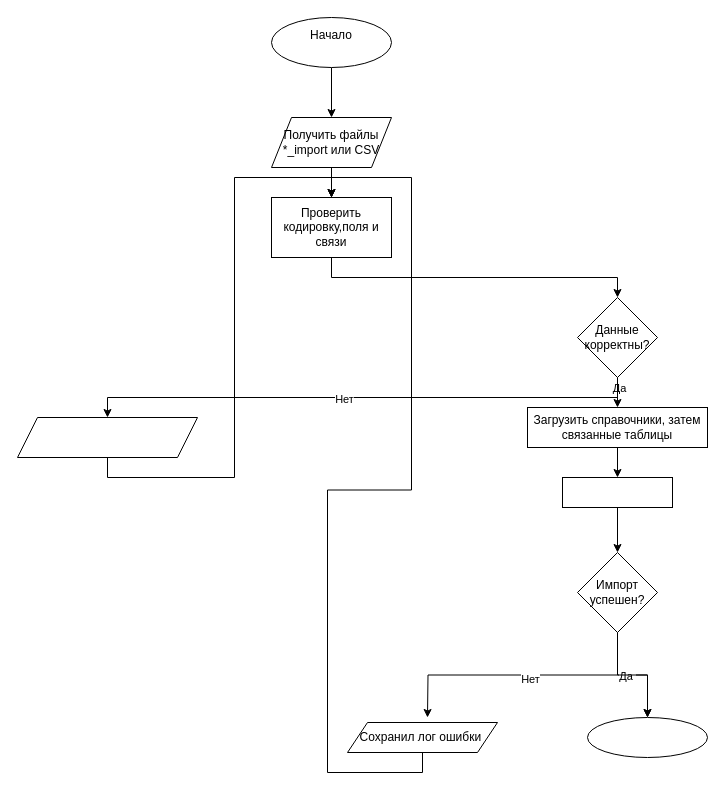
Image size: 725x798. Some labels were removed from this diagram. Each missing label, with the centre of its shape:
"Данные БД готовы" belongs at pixel 647 737.
"Зафиксировать ошибки и исправить файл" belongs at pixel 107 437.
"Проверить число строк, PK и FK" belongs at pixel 617 492.
